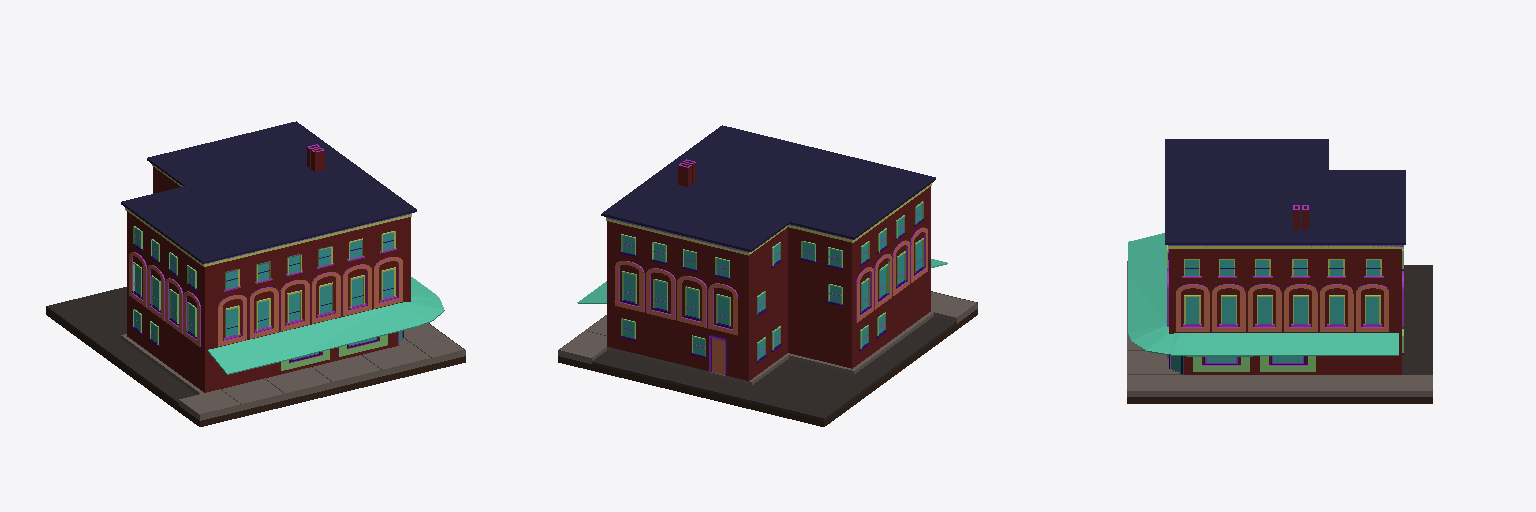
File: store_corner.obj
The picture shows the model from 3 angles: view 1: azimuth 30°, elevation 25°; view 2: azimuth 150°, elevation 25°; view 3: azimuth 270°, elevation 25°; orthographic projection.
Visible parts, largest first — view 1: store_corner_h; view 2: store_corner_h; view 3: store_corner_h.
Boxes of the visible parts, box(x1,y1,x2,y2) form: store_corner_h: box(46, 121, 465, 426); store_corner_h: box(558, 125, 977, 426); store_corner_h: box(1127, 139, 1432, 403).
Bounding box in the file's own units: 22 × 13.1 × 22.